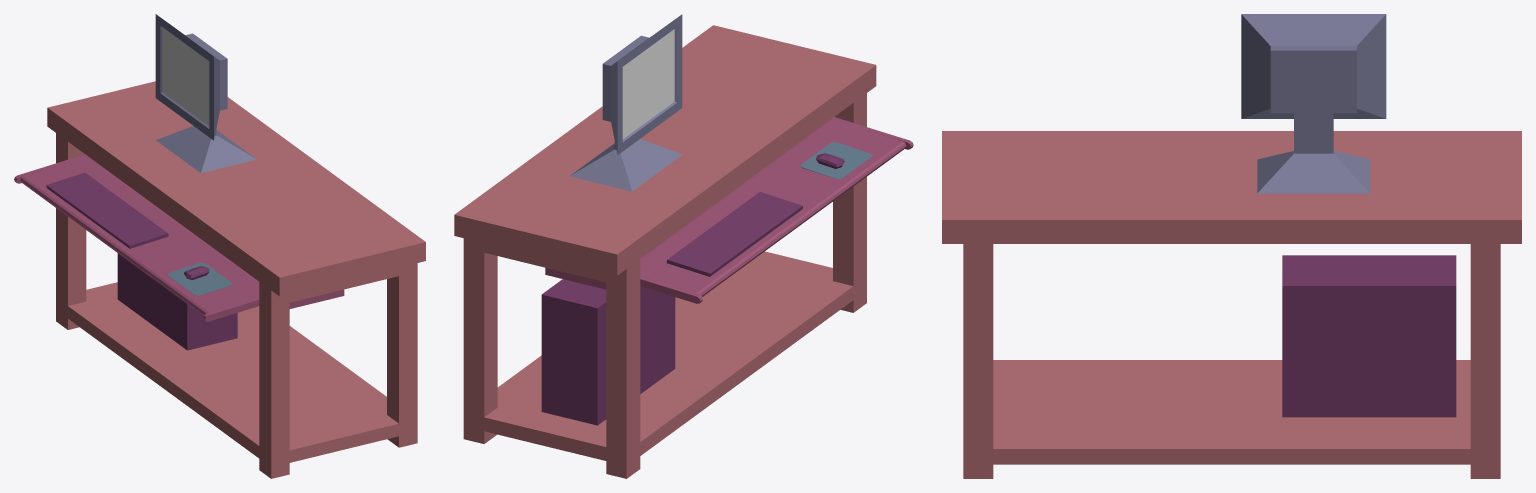
The model's file is computer_destk.glb.
3 views of the same model, side by side, from view 1: azimuth 30°, elevation 25°; view 2: azimuth 150°, elevation 25°; view 3: azimuth 270°, elevation 25° (orthographic). The views are drawn at different scales.
Visible parts, largest first — view 1: computer destk, keyboard holder, monitor, cpu, keyboard, screen, mouspad; view 2: computer destk, keyboard holder, cpu, monitor, keyboard, screen, mouspad; view 3: computer destk, cpu, monitor.
Part boxes in pixels (<box>): computer destk: <box>47,81,425,478</box>; keyboard holder: <box>14,154,344,321</box>; monitor: <box>155,14,256,172</box>; cpu: <box>117,253,237,350</box>; keyboard: <box>46,172,168,248</box>; screen: <box>162,27,209,125</box>; mouspad: <box>168,262,232,295</box>; computer destk: <box>454,25,876,478</box>; keyboard holder: <box>545,117,913,303</box>; cpu: <box>541,279,675,425</box>; monitor: <box>570,14,682,191</box>; keyboard: <box>666,192,802,276</box>; screen: <box>622,29,674,139</box>; mouspad: <box>800,142,872,178</box>; computer destk: <box>942,131,1521,478</box>; cpu: <box>1282,255,1456,417</box>; monitor: <box>1241,14,1386,193</box>.
Bounding box in the file's own units: 0.9949 × 1.56 × 2.
Materials: 6 (5 with a texture image).
